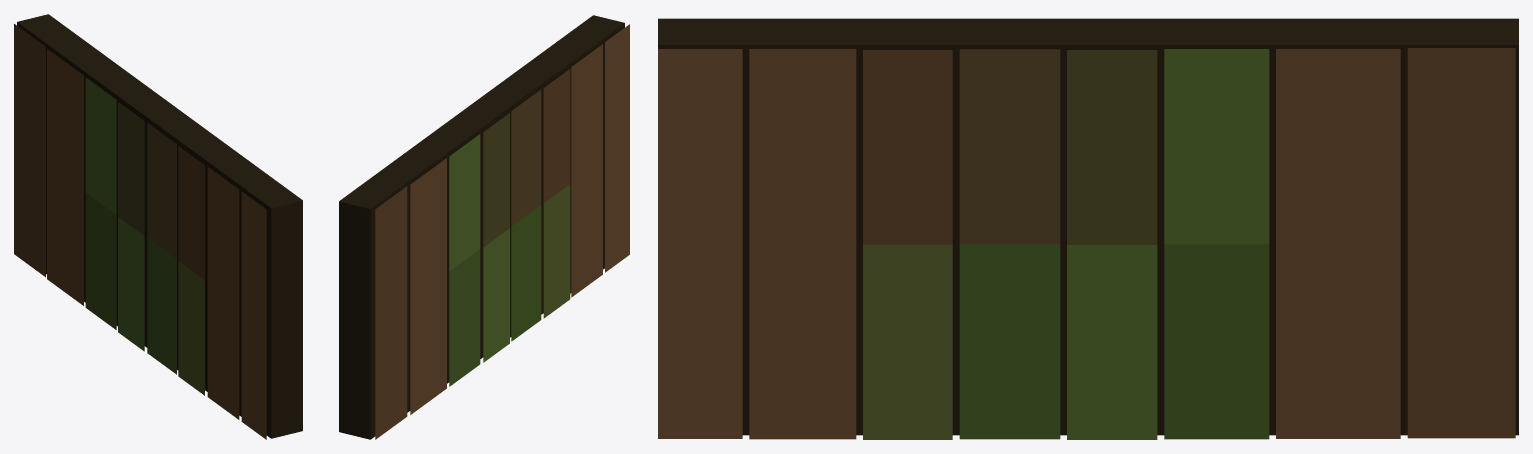
The model's file is wall-mossy-half.glb.
The picture shows the model from 3 angles, left to right: view 1: azimuth 30°, elevation 25°; view 2: azimuth 150°, elevation 25°; view 3: azimuth 270°, elevation 25°; orthographic projection. The views are drawn at different scales.
Parts seen in each view (by area): view 1: wall-mossy-half; view 2: wall-mossy-half; view 3: wall-mossy-half.
Boxes of the visible parts, left/top/right/bottom form: wall-mossy-half: left=14, top=14, right=302, bottom=439; wall-mossy-half: left=339, top=15, right=629, bottom=439; wall-mossy-half: left=658, top=18, right=1518, bottom=439.
Size of the model in its own units: 0.0985 by 0.5 by 1.
